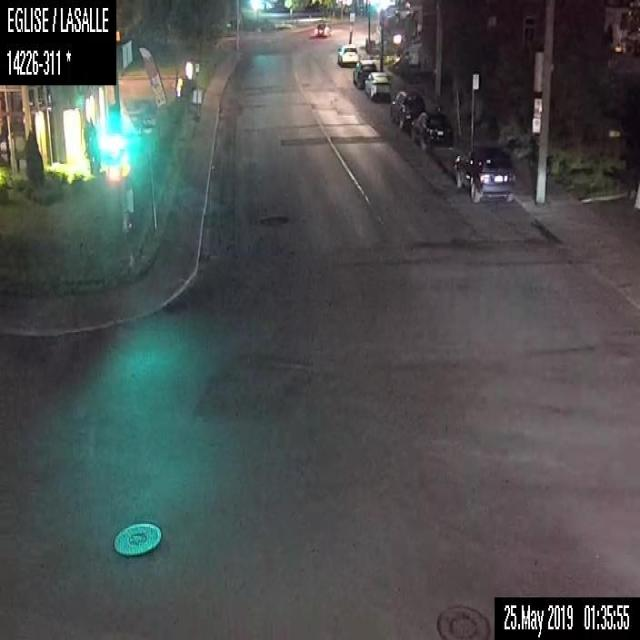vehicle: (452, 144, 514, 201), (388, 87, 426, 129), (409, 110, 453, 146), (363, 71, 393, 100), (350, 59, 376, 88), (337, 43, 358, 67), (312, 19, 331, 36)
